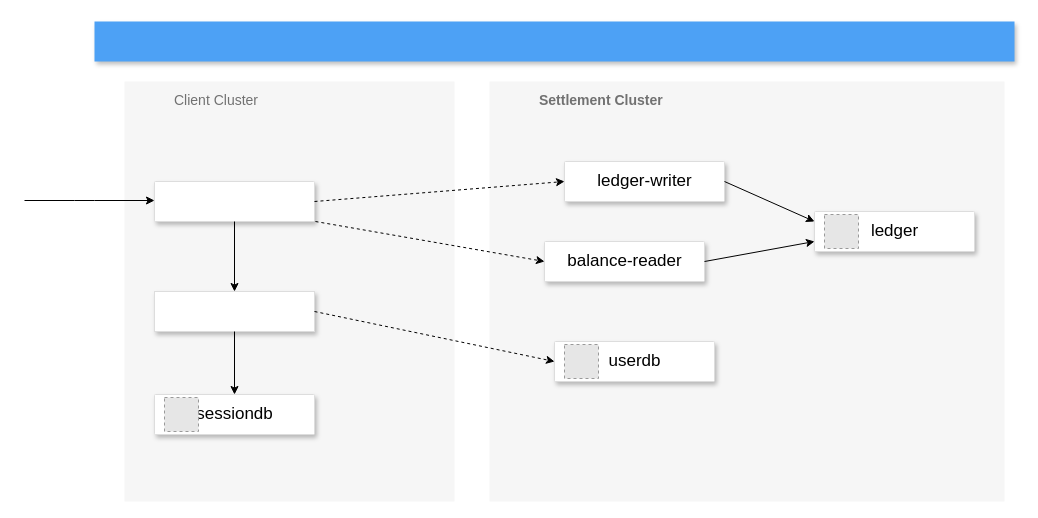
This 1038x518 diagram has some shape labels left out. Grey dashed boxes stand in for pictures. Here are the shapes that lost their labels. From the top down, the centre of each, then its label:
At pixel 555 42: "Cloud Bank".
At pixel 235 202: "frontend".
At pixel 235 312: "session-manager".
